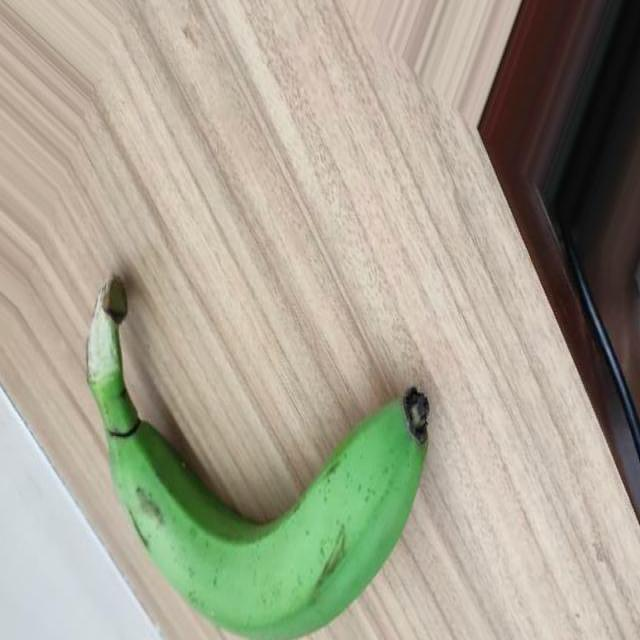Unripe: (85, 275, 431, 640)
